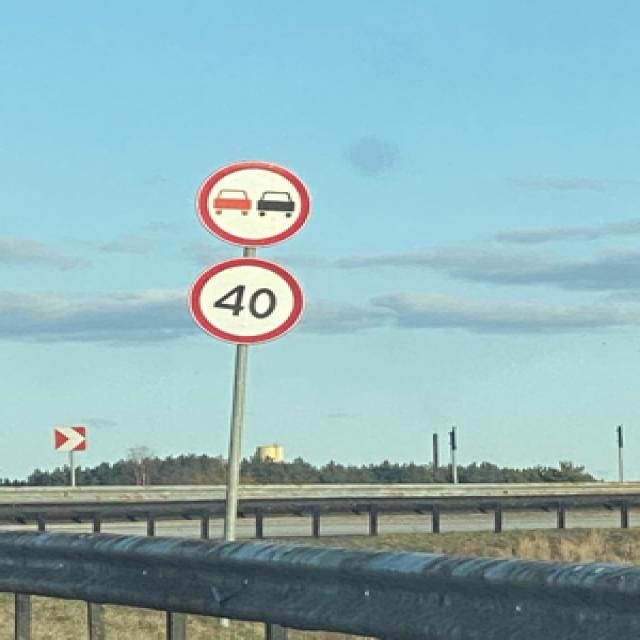speedlimit: (186, 254, 303, 344)
